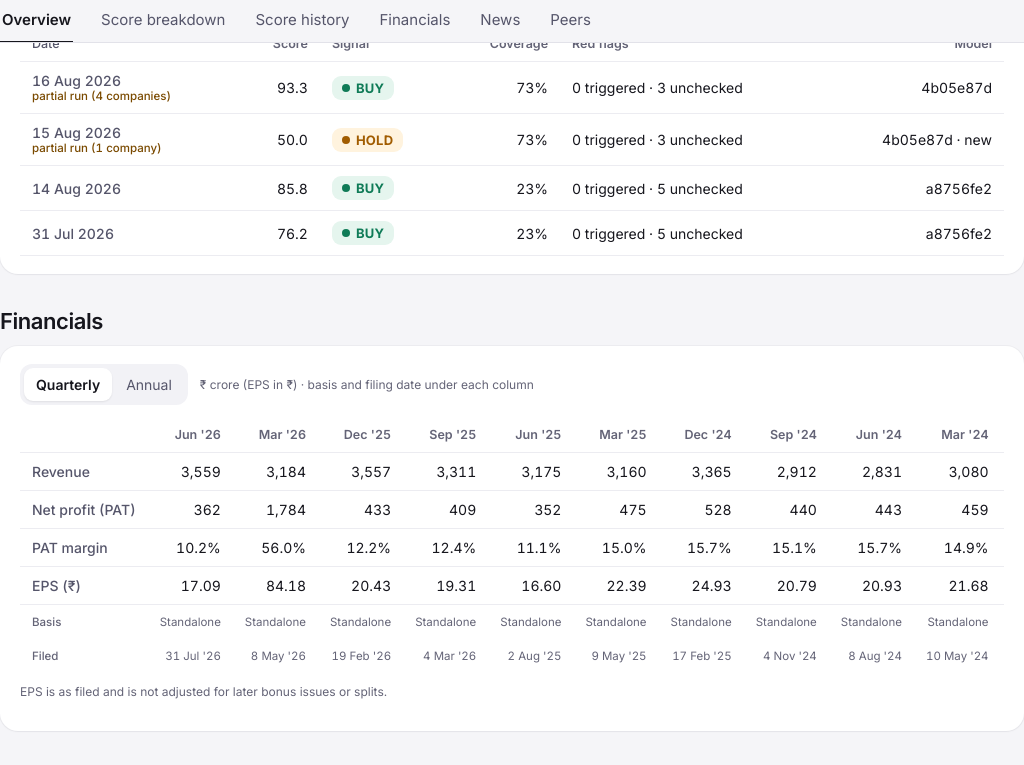
Scenario: other companies › ABB: Dec fiscal year
(page scrolled)
Click the button "Annual". click: (149, 385)
box: [114,368,184,401]
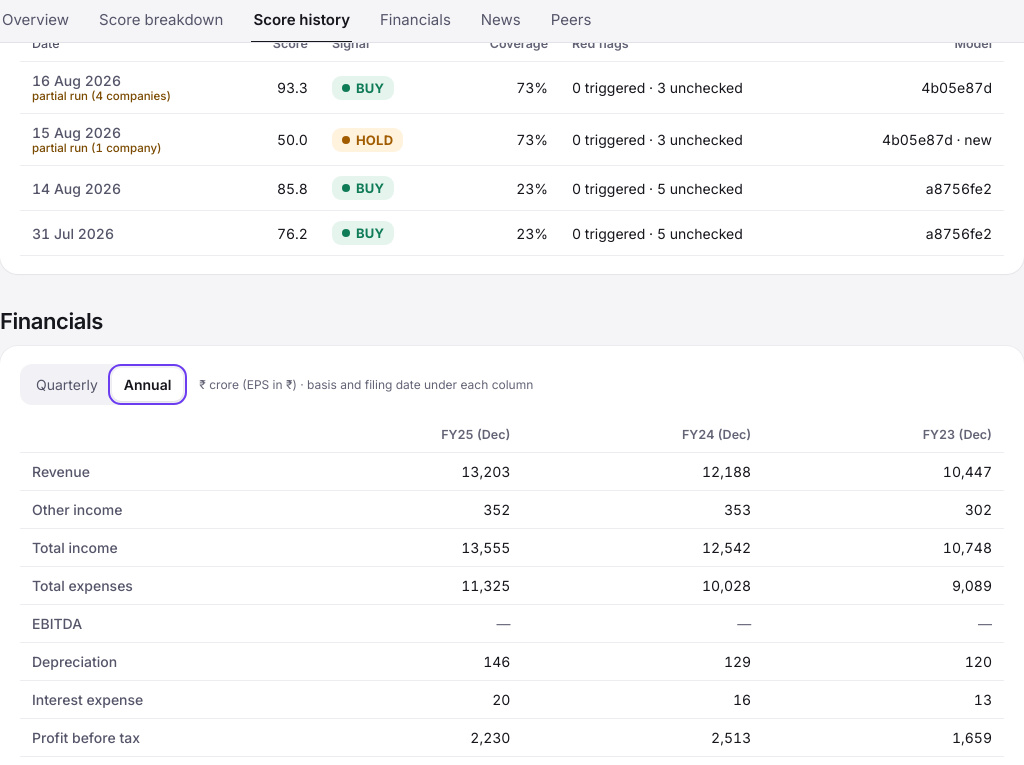
Check: the column heading "FY25 (Dec)" is shown, box [335,417,522,453]
